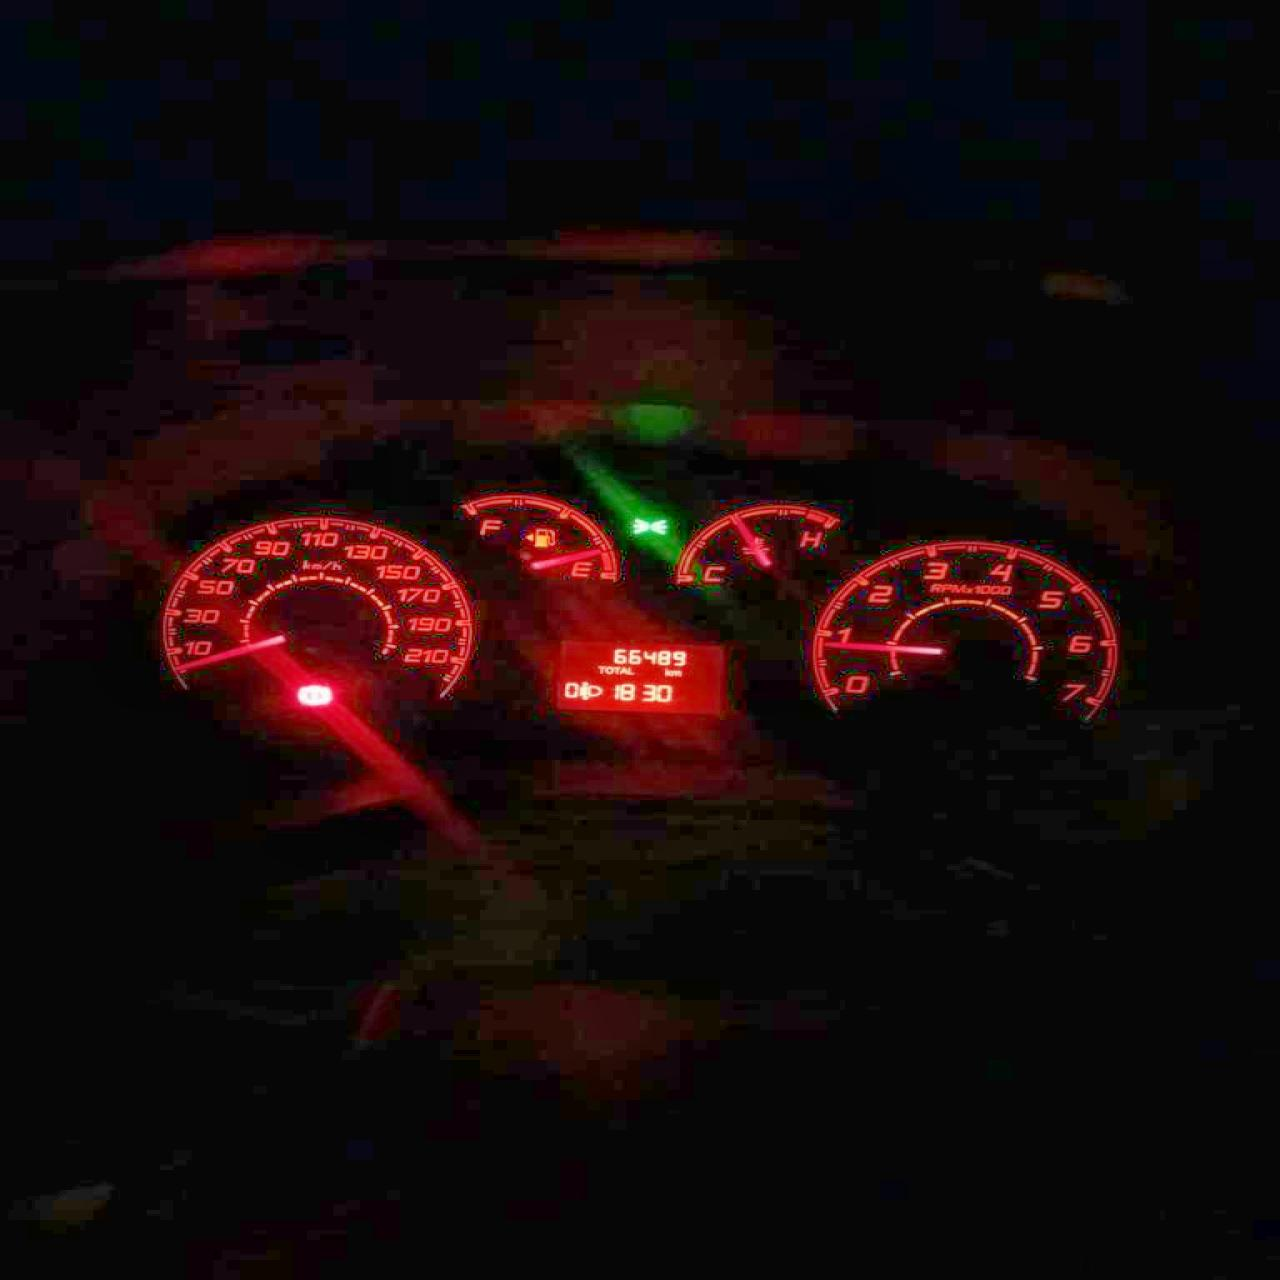0: (655, 682, 670, 701), (561, 681, 577, 697)
1: (612, 682, 618, 701)
3: (640, 682, 653, 701)
4: (641, 648, 656, 663)
6: (612, 647, 626, 663), (627, 647, 640, 663)
8: (618, 681, 635, 700), (656, 649, 670, 665)
9: (672, 649, 687, 665)
X: (618, 665, 627, 674), (597, 663, 604, 674), (670, 669, 680, 676), (663, 667, 669, 676), (612, 665, 618, 674), (605, 666, 612, 673), (627, 666, 633, 674)
odometer: (550, 636, 726, 714)
